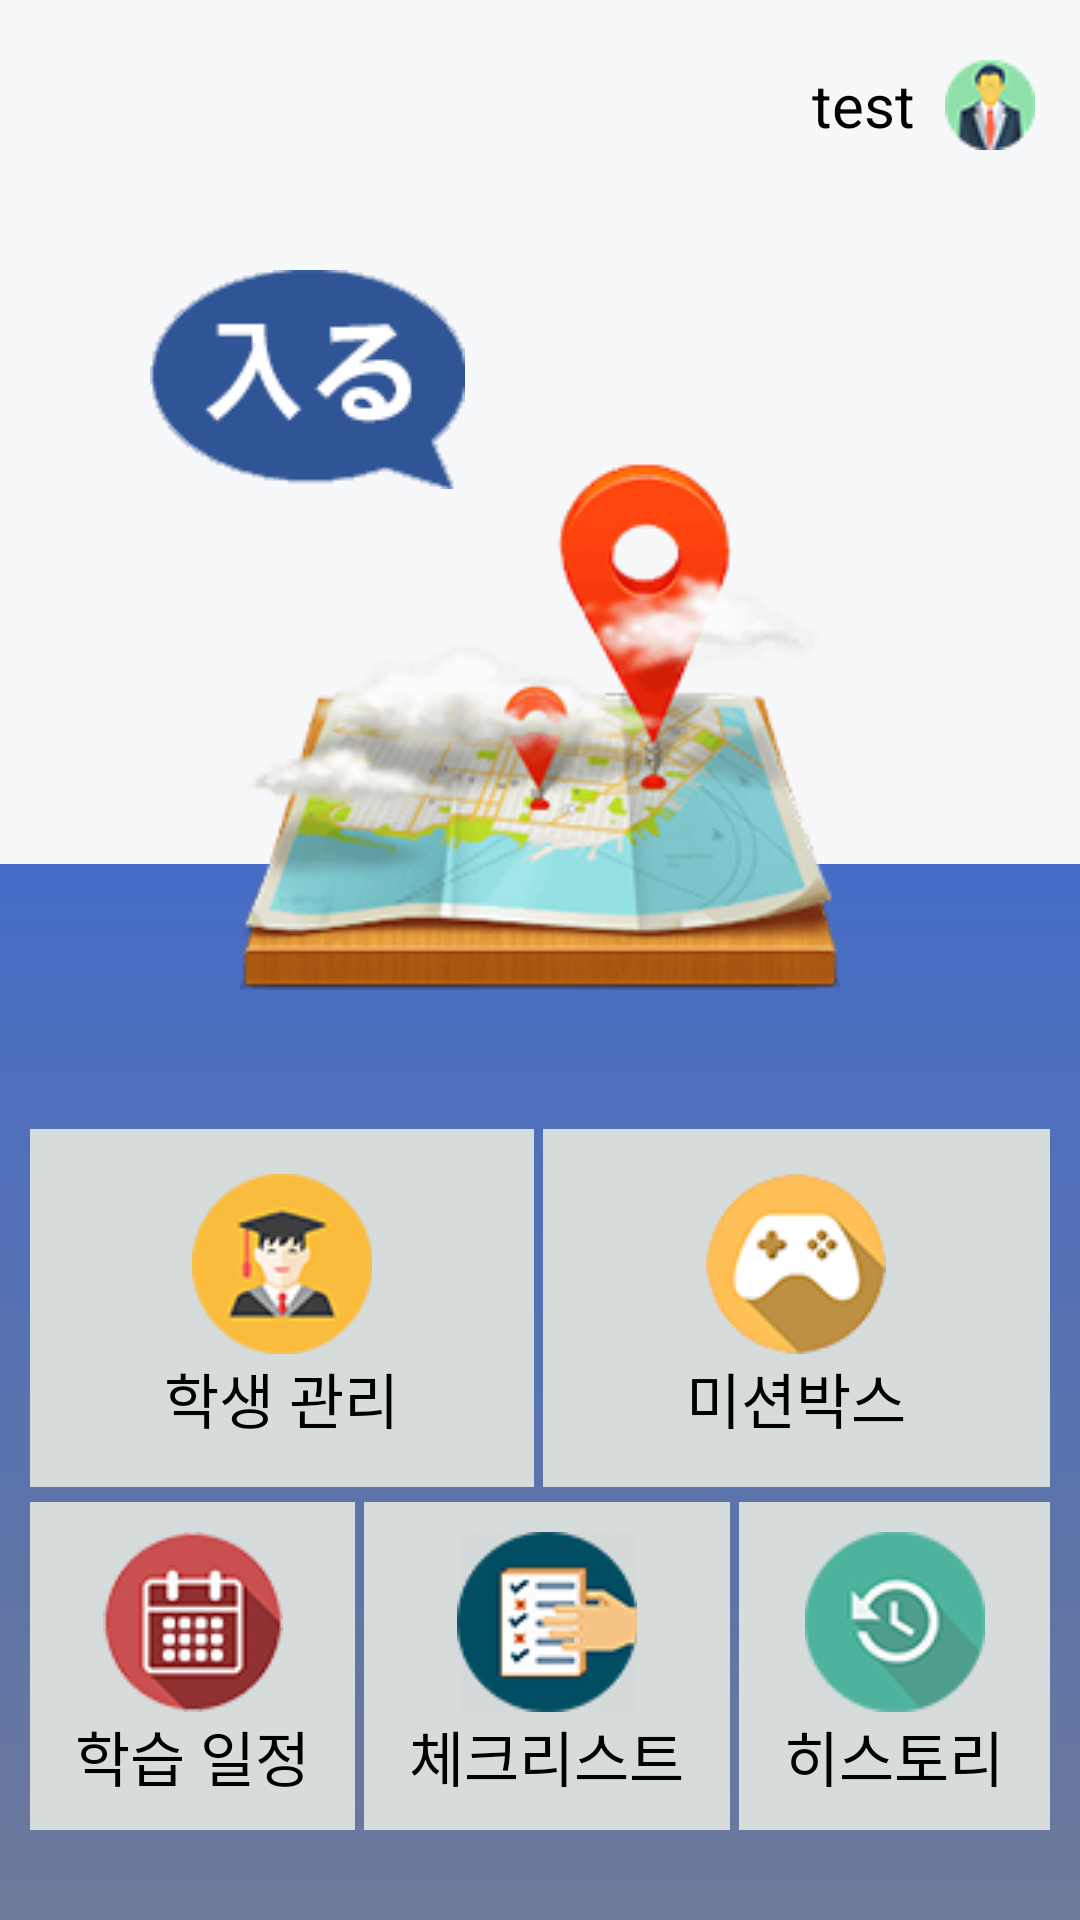

Icons on this 1080x1920 Android screen, each with its box as (x1, y1, x2, y2):
game: (706, 1174, 886, 1354)
teacher: (945, 60, 1035, 150)
